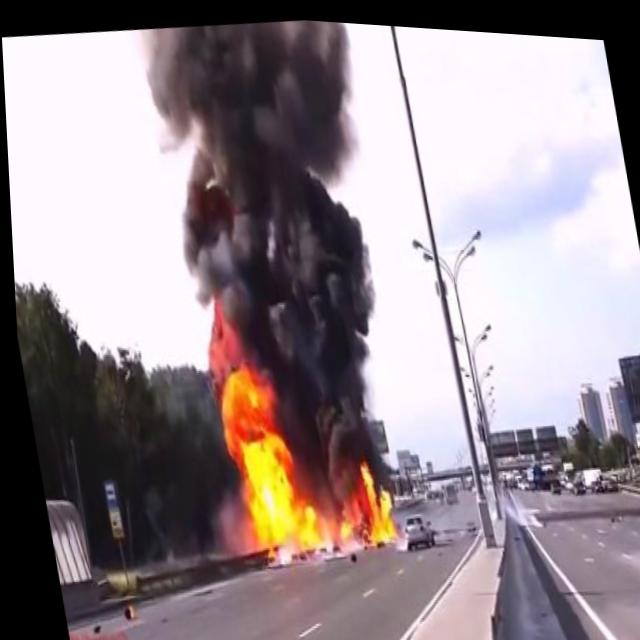fire: (194, 333, 401, 567)
